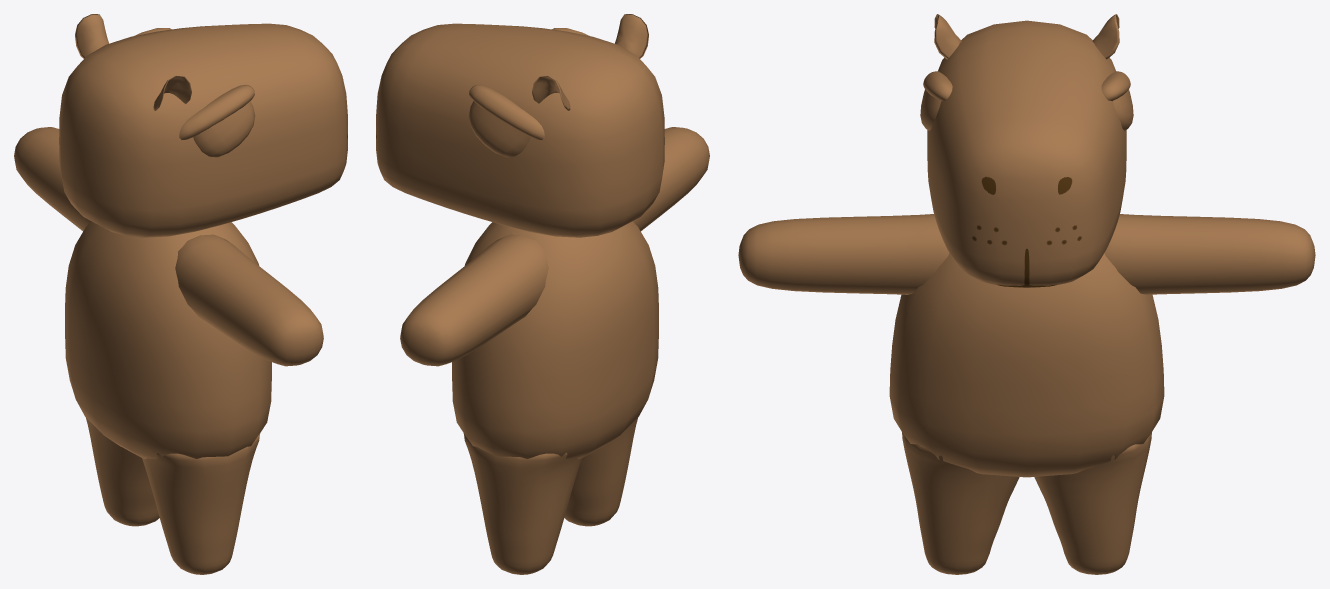
Rendered from ethan.fbx.
3 views of the same model, side by side, from view 1: azimuth 30°, elevation 25°; view 2: azimuth 150°, elevation 25°; view 3: azimuth 270°, elevation 25° (orthographic). The views are drawn at different scales.
Visible parts, largest first — view 1: Head, Chest, Hands, Legs, Eyes, Brows, Ears; view 2: Head, Chest, Hands, Legs, Eyes, Brows, Ears; view 3: Chest, Head, Hands, Legs, Ears, Brows, Eyes.
Part boxes in pixels (box(x1,y1,x2,y2)): Head: box(59, 23, 347, 237); Chest: box(65, 221, 271, 459); Hands: box(14, 127, 323, 366); Legs: box(86, 418, 260, 574); Eyes: box(193, 101, 255, 157); Brows: box(134, 28, 254, 139); Ears: box(75, 14, 191, 110); Head: box(376, 23, 664, 237); Chest: box(452, 221, 658, 459); Hands: box(400, 127, 709, 366); Legs: box(463, 418, 637, 574); Eyes: box(468, 101, 530, 157); Brows: box(469, 28, 589, 139); Ears: box(532, 14, 648, 110); Chest: box(889, 253, 1164, 477); Head: box(927, 20, 1126, 287); Hands: box(738, 214, 1315, 294); Legs: box(902, 432, 1151, 574); Ears: box(934, 14, 1119, 59); Brows: box(923, 71, 1130, 101); Eyes: box(920, 85, 1133, 130).
Bounding box in the file's own units: 87.41 × 164 × 160.
Materials: 7 (7 with a texture image).
